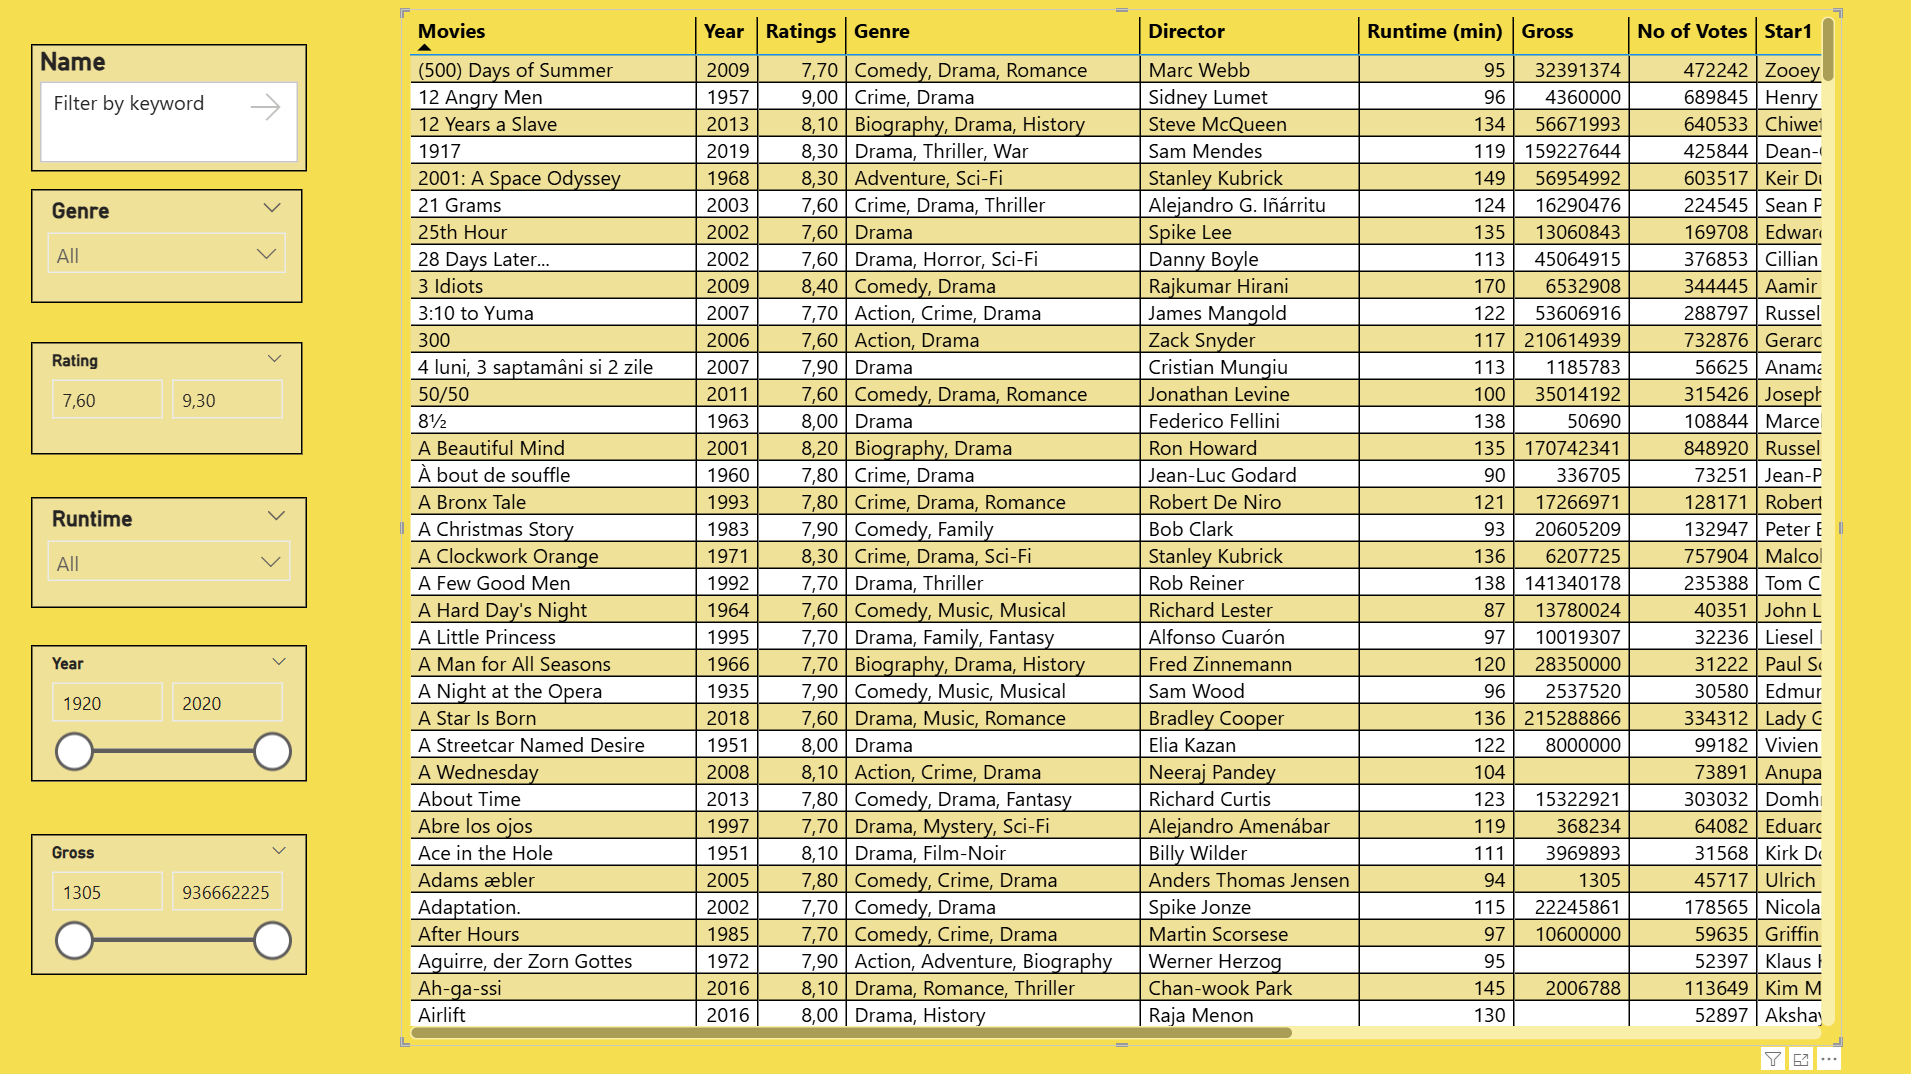

The page's visual inventory and layout, read from the dashboard file:
{"tool":"powerbi","page":{"name":"Movie Explorer","canvas":[1280,720],"ordinal":2},"visuals":[{"type":"slicer","fields":{"Values":["IMDB.Main_Genre"]},"box":[21.4,127.1,180.7,75.7],"z":0},{"type":"slicer","fields":{"Values":["IMDB.Runtime_Avg"]},"box":[21.4,332.9,183.6,73.6],"z":1000},{"type":"slicer","fields":{"Values":["IMDB.IMDB_Rating"]},"box":[21.4,229.3,180.7,75],"z":2000},{"type":"tableEx","fields":{"Values":["IMDB.Movies","IMDB.Released_Year","IMDB.IMDB_Rating","IMDB.Genre","IMDB.Director","IMDB.Runtime","IMDB.Gross","IMDB.No_of_Votes","IMDB.Star1","IMDB.Star2","IMDB.Star3","IMDB.Star4"]},"box":[268.3,7.2,960.7,691.7],"z":3000},{"type":"slicer","fields":{"Values":["IMDB.Released_Year"]},"box":[21.4,431.4,183.6,90.7],"z":4000},{"type":"textSlicer","title":"Name","fields":{"Values":["IMDB.Movies"]},"box":[21.4,30.7,183.6,85],"z":5000},{"type":"slicer","fields":{"Values":["IMDB.Gross"]},"box":[21.4,557.1,183.6,93.6],"z":6000}]}

Visuals, with their boxes on the page's 1280x720 design canvas (x1, y1, x2, y2). These are canvas units, not pixel positions in the 1911x1074 screenshot, which may show the page scaled, cropped or inside an application window:
slicer - IMDB.Main_Genre: 21 127 202 203
slicer - IMDB.Runtime_Avg: 21 333 205 406
slicer - IMDB.IMDB_Rating: 21 229 202 304
tableEx - IMDB.Movies x IMDB.Released_Year: 268 7 1229 699
slicer - IMDB.Released_Year: 21 431 205 522
"Name" textSlicer: 21 31 205 116
slicer - IMDB.Gross: 21 557 205 651
